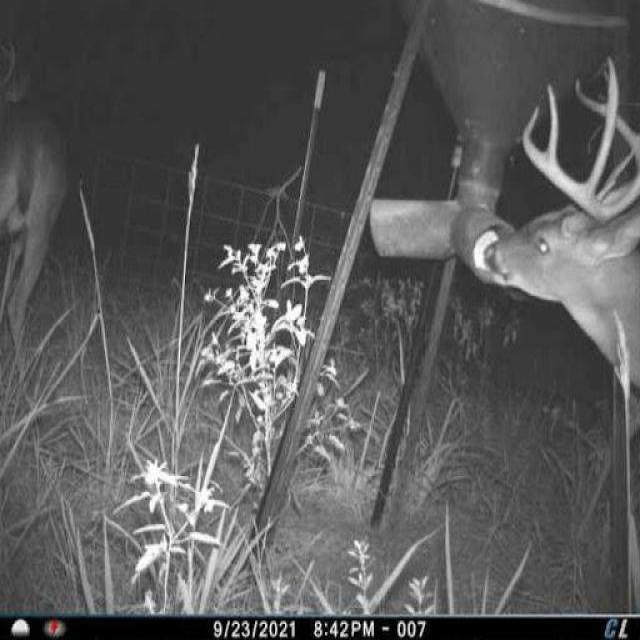deer: (486, 51, 640, 409), (0, 39, 82, 366)
